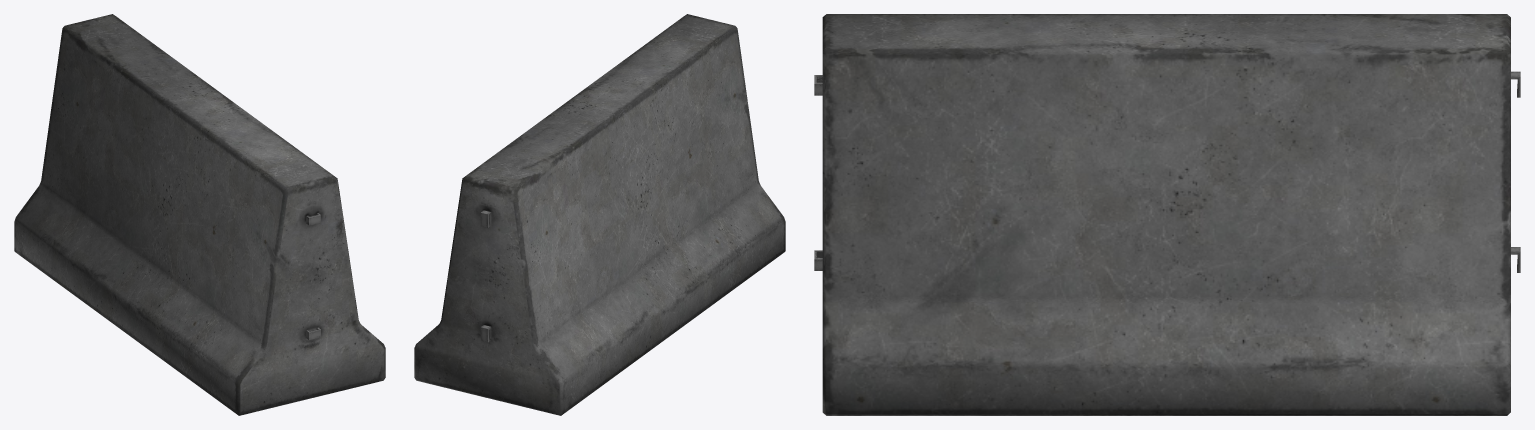
Rendered from barrier1.glb.
The picture shows the model from 3 angles, left to right: view 1: azimuth 30°, elevation 25°; view 2: azimuth 150°, elevation 25°; view 3: azimuth 270°, elevation 25°; orthographic projection. The views are drawn at different scales.
Visible parts, largest first — view 1: Cube; view 2: Cube; view 3: Cube, Cube.001.
Boxes of the visible parts, x1,y1,x2,y2 form: Cube: (14,14,385,415); Cube: (414,14,785,415); Cube: (822,14,1510,415); Cube.001: (814,71,1520,272).
Size of the model in its own units: 0.7438 by 1.03 by 2.
2 materials, 2 textured.
